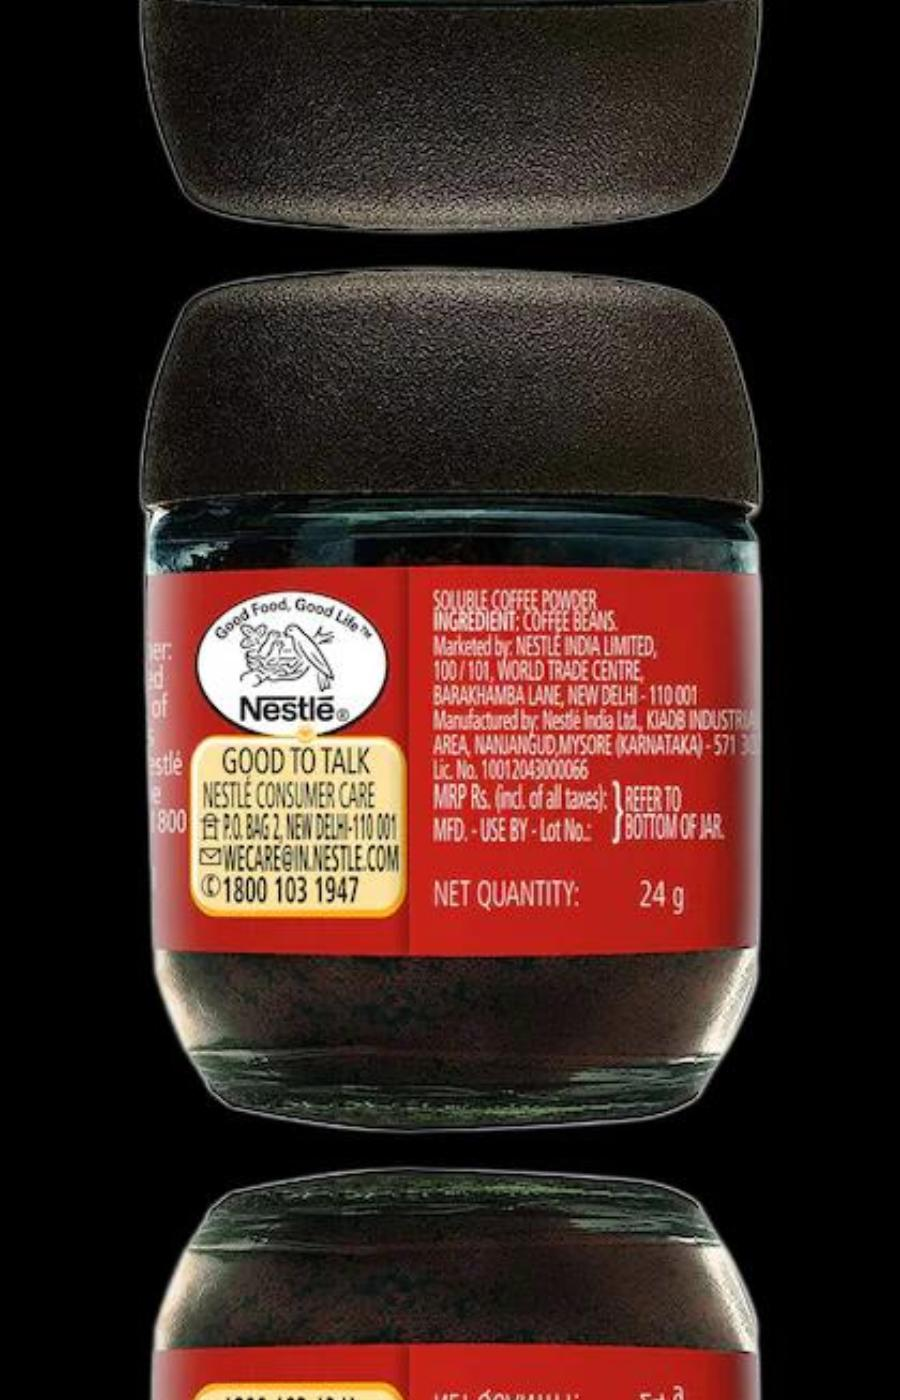Nescafe Classic Instant Coffee 24 g: (145, 256, 769, 1123), (144, 0, 769, 243), (144, 1176, 769, 1400)
